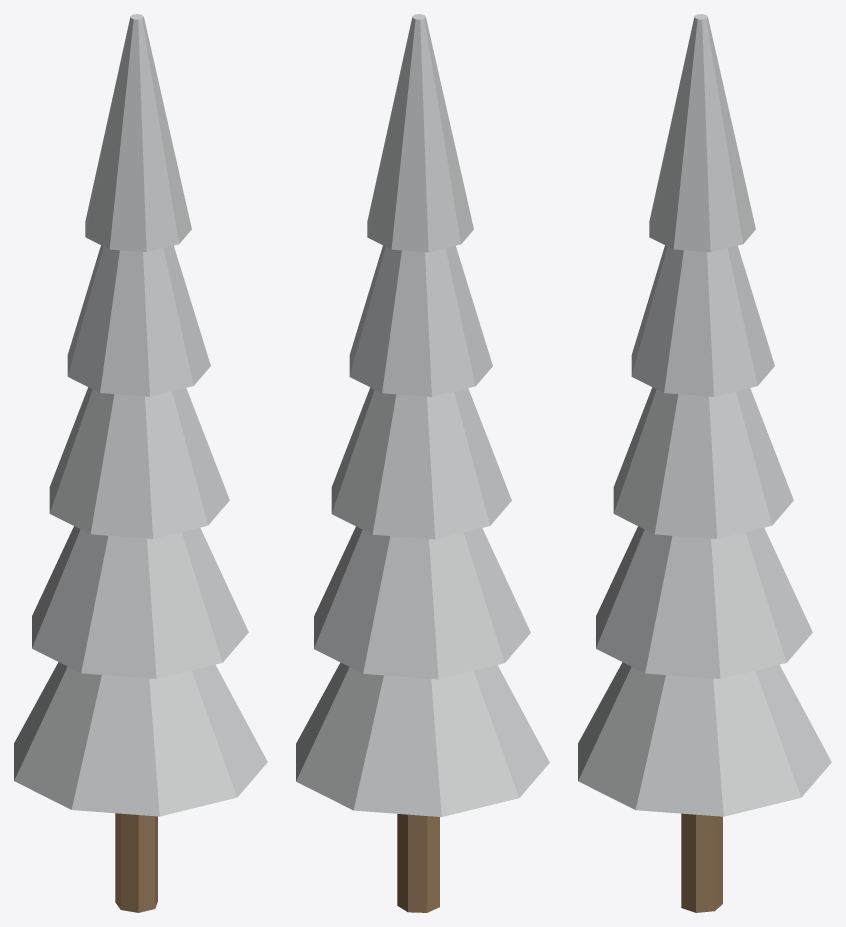
File: conifer_02_snow.glb
3 renders of one model, left to right at view 1: azimuth 30°, elevation 25°; view 2: azimuth 150°, elevation 25°; view 3: azimuth 270°, elevation 25°, orthographic.
Visible parts, largest first — view 1: conifer_02_snow_needles_1, conifer_02_snow_needles_2, conifer_02_snow_needles_3, conifer_02_snow_needles_4, conifer_02_snow_needles_5, conifer_02_snow_trunk; view 2: conifer_02_snow_needles_1, conifer_02_snow_needles_2, conifer_02_snow_needles_3, conifer_02_snow_needles_4, conifer_02_snow_needles_5, conifer_02_snow_trunk; view 3: conifer_02_snow_needles_1, conifer_02_snow_needles_2, conifer_02_snow_needles_3, conifer_02_snow_needles_4, conifer_02_snow_needles_5, conifer_02_snow_trunk.
Part boxes in pixels (x1,y1,x2,y2): conifer_02_snow_needles_1: (14,662,267,816); conifer_02_snow_needles_2: (32,526,248,678); conifer_02_snow_needles_3: (49,387,229,538); conifer_02_snow_needles_4: (67,245,210,396); conifer_02_snow_needles_5: (85,14,191,252); conifer_02_snow_trunk: (115,813,157,912); conifer_02_snow_needles_1: (296,662,549,816); conifer_02_snow_needles_2: (314,526,530,679); conifer_02_snow_needles_3: (331,387,511,539); conifer_02_snow_needles_4: (349,245,492,396); conifer_02_snow_needles_5: (367,14,473,252); conifer_02_snow_trunk: (397,814,439,912); conifer_02_snow_needles_1: (578,662,831,816); conifer_02_snow_needles_2: (596,526,812,678); conifer_02_snow_needles_3: (613,387,793,538); conifer_02_snow_needles_4: (631,245,774,396); conifer_02_snow_needles_5: (649,14,755,252); conifer_02_snow_trunk: (681,813,722,912).
Size of the model in its own units: 1.87 by 7.1 by 1.84.
